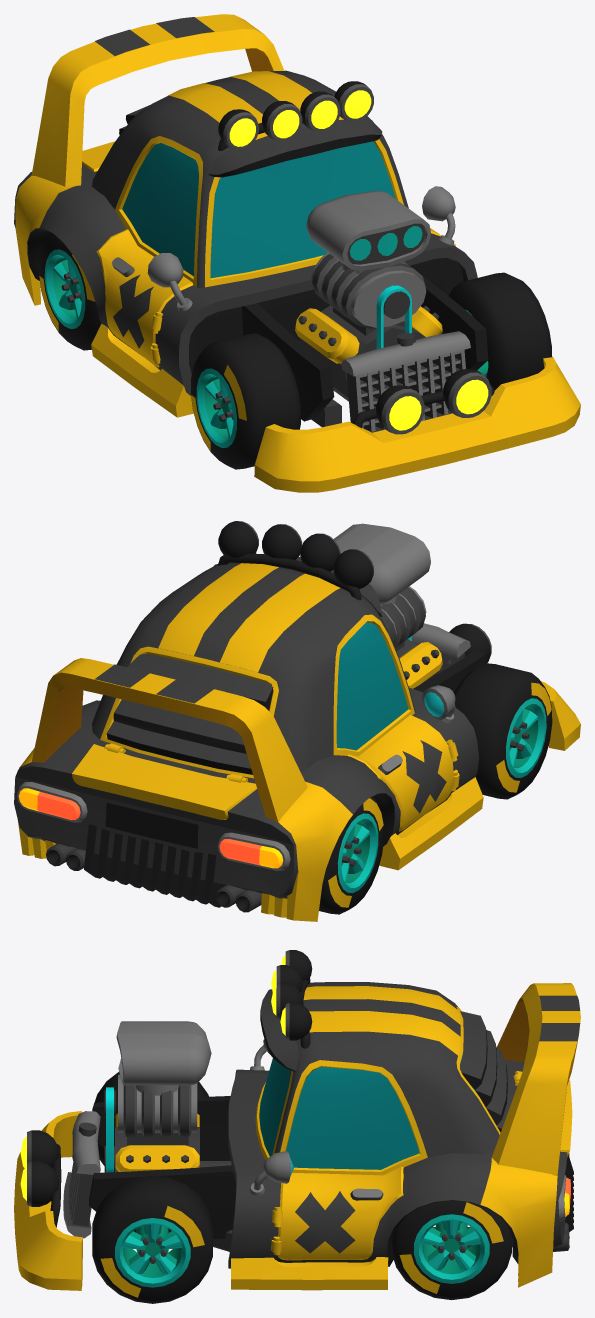
The model's file is SVehicle10.fbx.
3 renders of one model, top to bottom at view 1: azimuth 30°, elevation 25°; view 2: azimuth 150°, elevation 25°; view 3: azimuth 270°, elevation 25°, orthographic. The views are drawn at different scales.
Visible parts, largest first — view 1: SVehicle10, SV10_Wheel_FR, SV10_Wheel_FL, SV10_Wheel_BR; view 2: SVehicle10, SV10_Wheel_FR, SV10_Wheel_BR; view 3: SVehicle10, SV10_Wheel_FL, SV10_Wheel_BL, SV10_Wheel_FR.
Boxes of the visible parts, x1,y1,x2,y2 form: SVehicle10: [14, 14, 580, 492]; SV10_Wheel_FR: [190, 333, 300, 469]; SV10_Wheel_FL: [449, 272, 552, 390]; SV10_Wheel_BR: [39, 232, 101, 350]; SVehicle10: [14, 521, 580, 921]; SV10_Wheel_FR: [454, 663, 552, 799]; SV10_Wheel_BR: [319, 796, 383, 914]; SVehicle10: [14, 950, 580, 1290]; SV10_Wheel_FL: [92, 1175, 212, 1303]; SV10_Wheel_BL: [392, 1200, 511, 1300]; SV10_Wheel_FR: [92, 1072, 208, 1165].
Bounding box in the file's own units: 251 × 213 × 418.
1 material, 1 textured.
